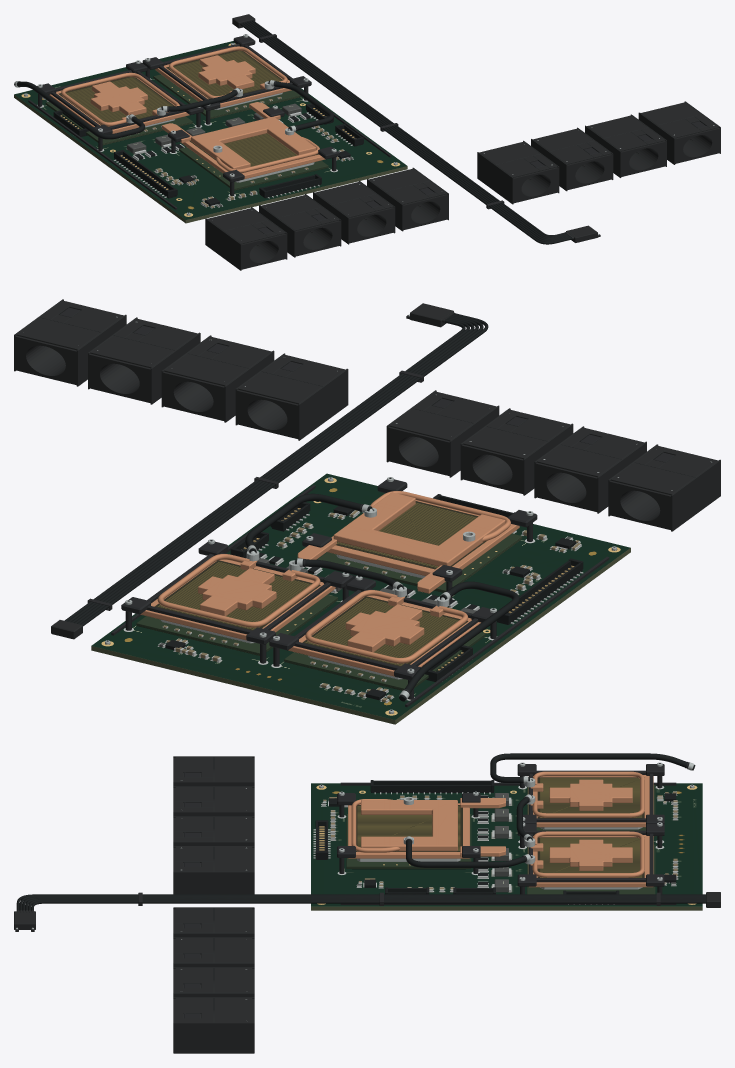
Rendered from compute-board.glb.
3 views of the same model, one above another, from view 1: azimuth 30°, elevation 25°; view 2: azimuth 150°, elevation 25°; view 3: azimuth 270°, elevation 25° (orthographic). The views are drawn at different scales.
Visible parts, largest first — view 1: L10 prototype / io, L10 prototype / board, L10 prototype / cooling-frame, L10 prototype / cooling / CPU, L10 prototype / cooling / GPU_B, L10 prototype / cooling / GPU_A, L10 prototype / packages / CPU, L10 prototype / packages / GPU_B, L10 prototype / packages / GPU_A; view 2: L10 prototype / io, L10 prototype / cooling-frame, L10 prototype / board, L10 prototype / cooling / CPU, L10 prototype / cooling / GPU_A, L10 prototype / cooling / GPU_B, L10 prototype / packages / GPU_B, L10 prototype / packages / CPU, L10 prototype / packages / GPU_A; view 3: L10 prototype / io, L10 prototype / board, L10 prototype / cooling-frame, L10 prototype / cooling / CPU, L10 prototype / cooling / GPU_A, L10 prototype / cooling / GPU_B, L10 prototype / packages / CPU, L10 prototype / packages / GPU_B, L10 prototype / packages / GPU_A.
Part boxes in pixels (box(x1,y1,x2,y2)): L10 prototype / io: box(205, 14, 720, 270); L10 prototype / board: box(14, 41, 407, 223); L10 prototype / cooling-frame: box(14, 34, 339, 195); L10 prototype / cooling / CPU: box(191, 116, 316, 169); L10 prototype / cooling / GPU_B: box(198, 55, 255, 89); L10 prototype / cooling / GPU_A: box(90, 81, 147, 115); L10 prototype / packages / CPU: box(179, 147, 328, 190); L10 prototype / packages / GPU_B: box(153, 74, 300, 118); L10 prototype / packages / GPU_A: box(45, 102, 192, 145); L10 prototype / io: box(14, 299, 720, 639); L10 prototype / cooling-frame: box(121, 477, 537, 701); L10 prototype / board: box(91, 473, 630, 724); L10 prototype / cooling / CPU: box(333, 492, 505, 566); L10 prototype / cooling / GPU_A: box(345, 604, 424, 652); L10 prototype / cooling / GPU_B: box(198, 568, 276, 616); L10 prototype / packages / GPU_B: box(136, 594, 337, 655); L10 prototype / packages / CPU: box(317, 533, 522, 592); L10 prototype / packages / GPU_A: box(284, 632, 485, 690); L10 prototype / io: box(14, 756, 720, 1053); L10 prototype / board: box(311, 780, 702, 910); L10 prototype / cooling-frame: box(337, 753, 695, 894); L10 prototype / cooling / CPU: box(361, 800, 457, 851); L10 prototype / cooling / GPU_A: box(549, 779, 632, 810); L10 prototype / cooling / GPU_B: box(549, 839, 632, 870); L10 prototype / packages / CPU: box(346, 814, 471, 868); L10 prototype / packages / GPU_B: box(527, 844, 655, 894); L10 prototype / packages / GPU_A: box(527, 784, 655, 837).
Size of the model in its own units: 3.74 by 0.233 by 4.19.
Materials: 19 (7 with a texture image).
